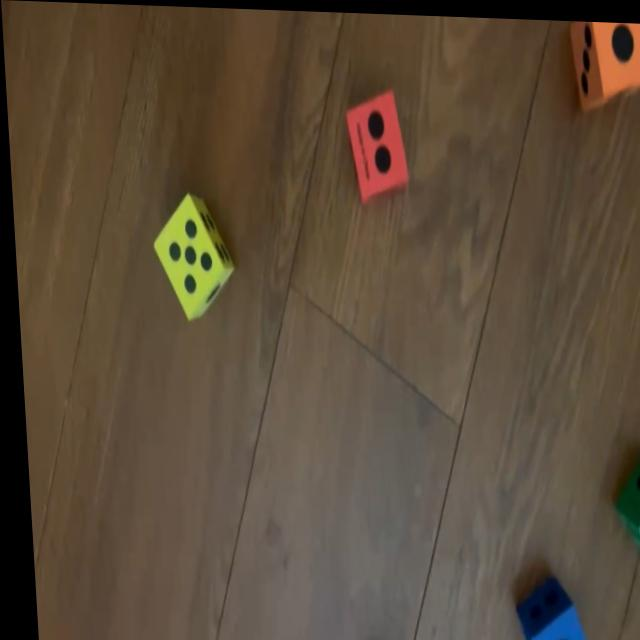cube: (343, 86, 409, 204), (508, 575, 581, 640), (608, 448, 640, 582)
